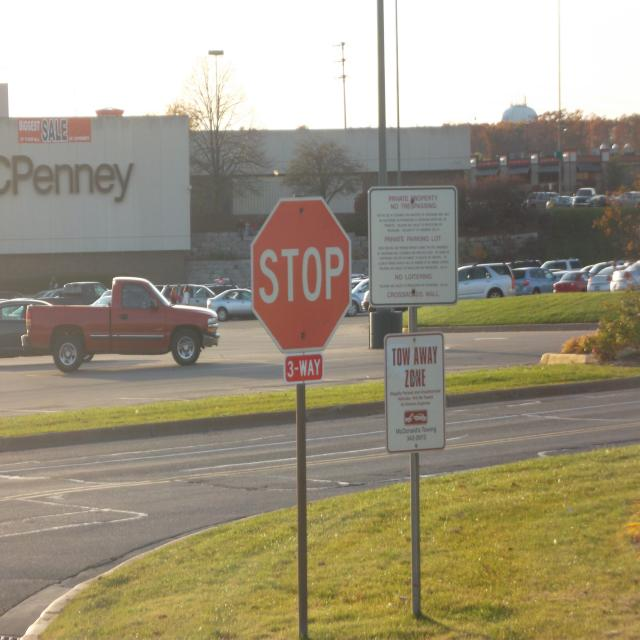regulatory: (384, 334, 446, 452)
stop: (251, 197, 352, 353)
